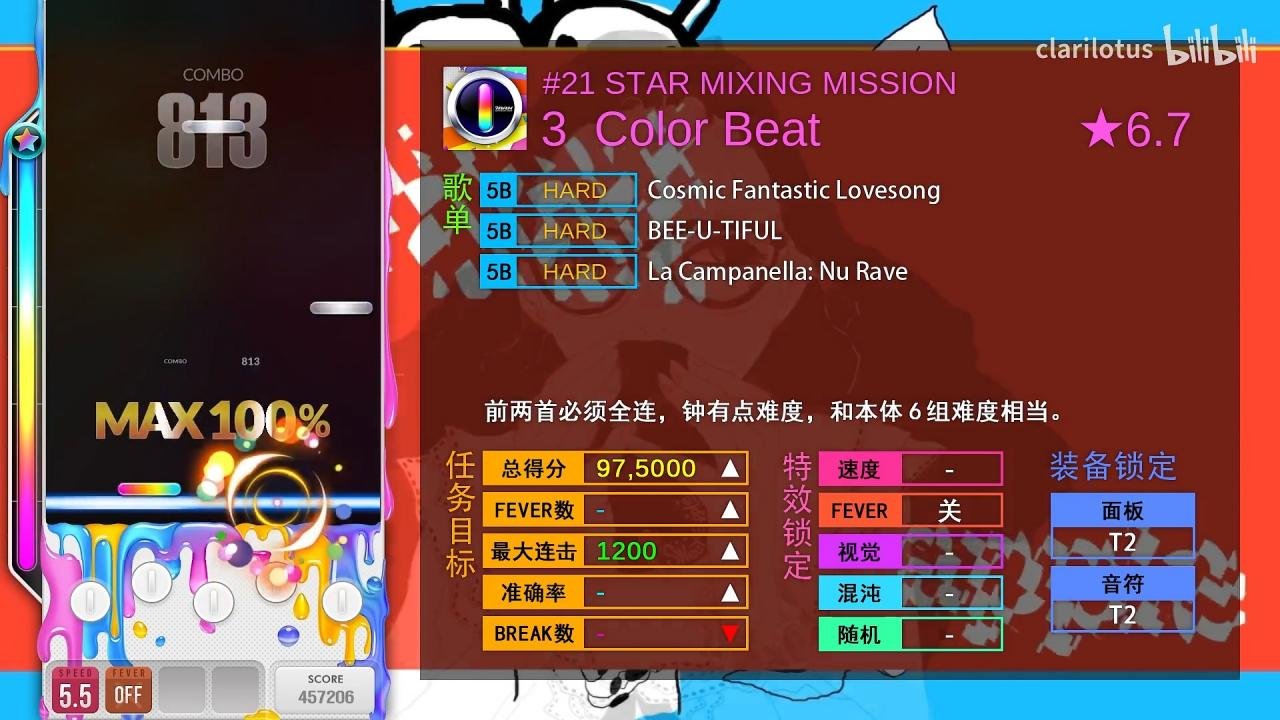note: (182, 120, 245, 134), (310, 301, 372, 315), (118, 483, 181, 496)
